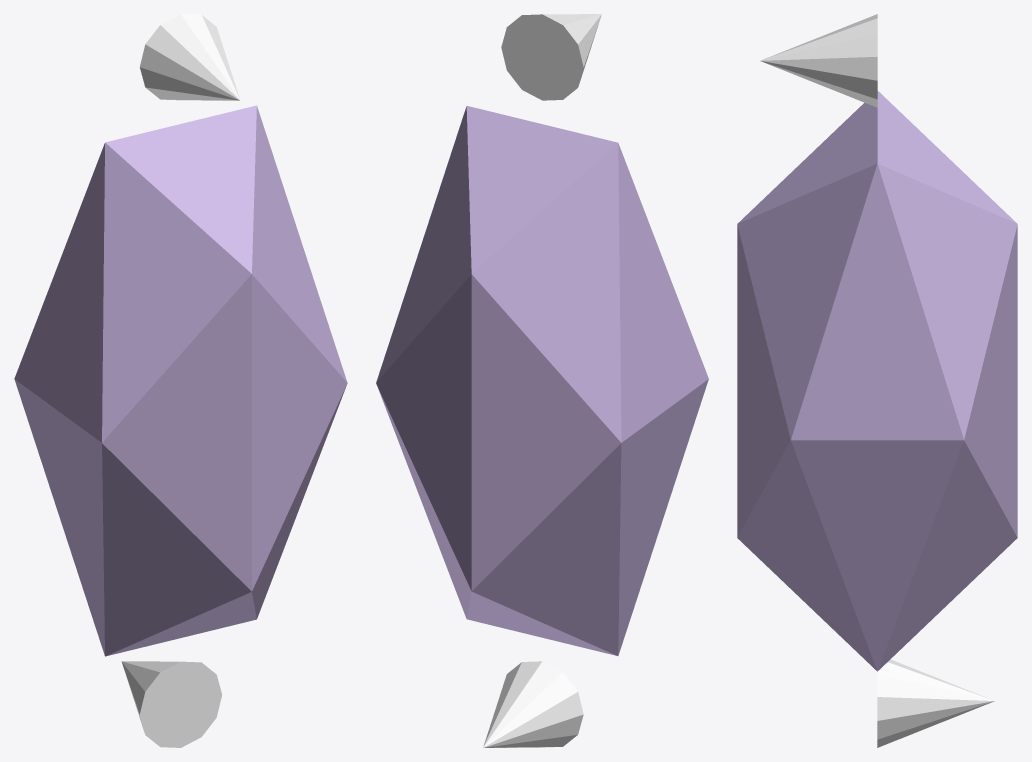
The model's file is nightshard.glb.
3 renders of one model, left to right at view 1: azimuth 30°, elevation 25°; view 2: azimuth 150°, elevation 25°; view 3: azimuth 270°, elevation 25°, orthographic.
Parts seen in each view (by area): view 1: world; view 2: world; view 3: world.
Part boxes in pixels (x1,y1,x2,y2): world: (14,14,347,747); world: (376,14,708,747); world: (737,14,1017,747).
Bounding box in the file's own units: 0.7005 × 2 × 0.7005.
Materials: 1 (1 with a texture image).
